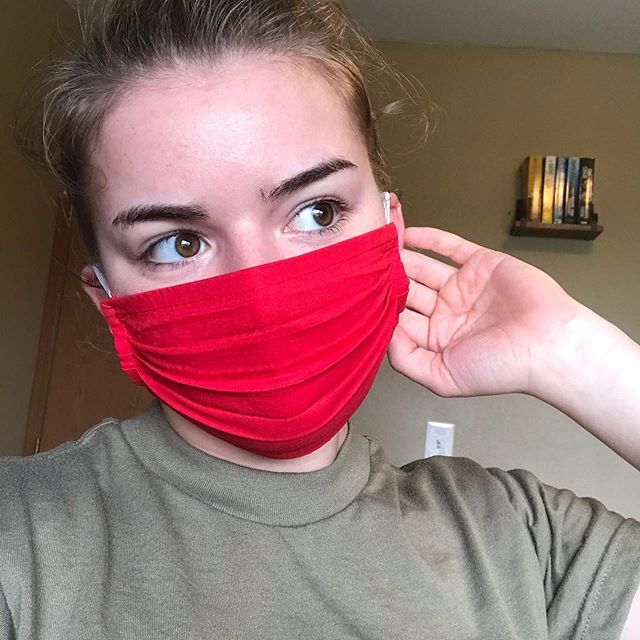homemade: (84, 268, 444, 453)
